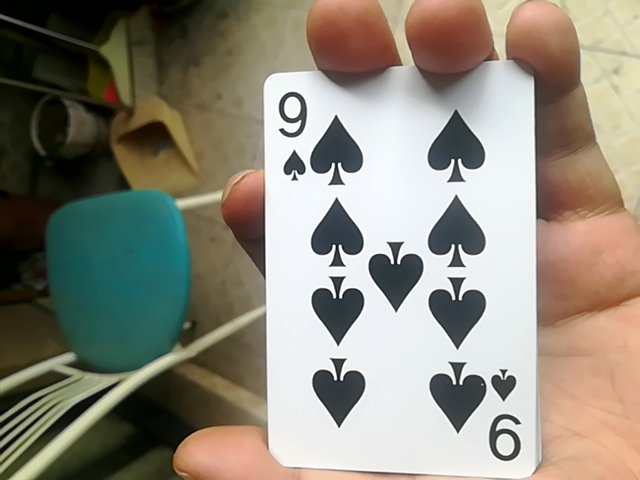ht 9: (253, 62, 535, 479)
